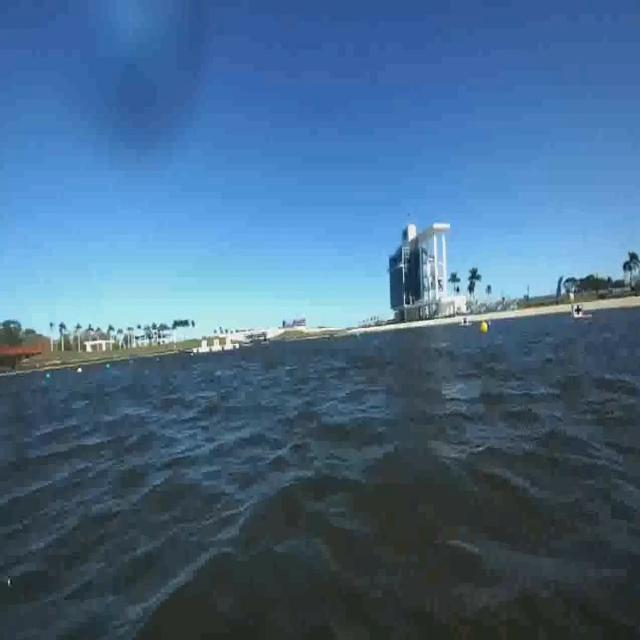yellow-buoy: (481, 320, 490, 334)
